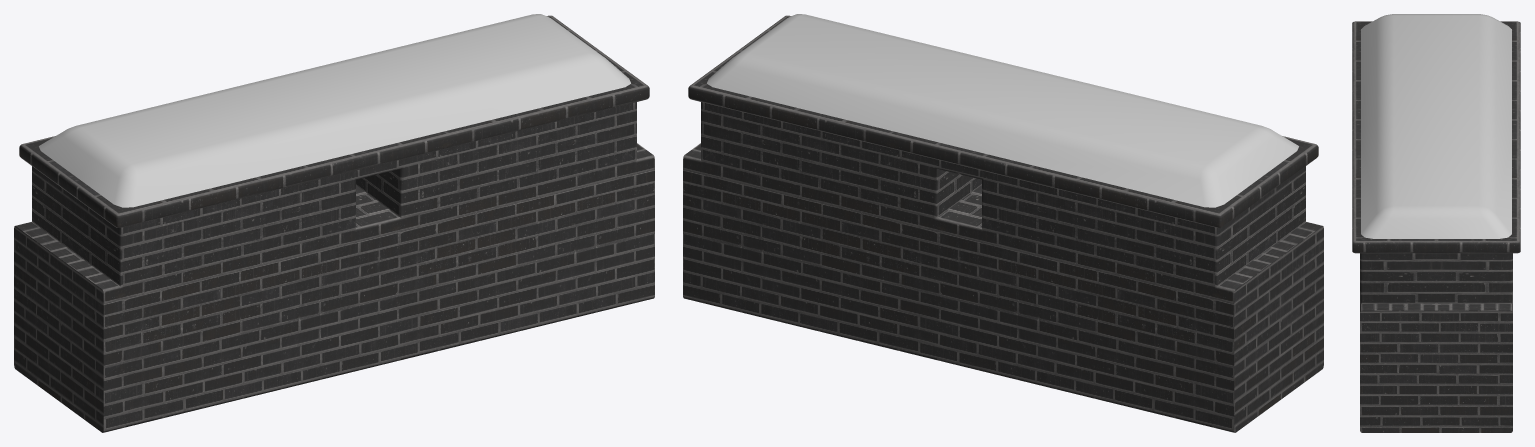
File: SM_GH_Parapet_001.fbx
3 views of the same model, side by side, from view 1: azimuth 30°, elevation 25°; view 2: azimuth 150°, elevation 25°; view 3: azimuth 270°, elevation 25° (orthographic). The views are drawn at different scales.
Parts seen in each view (by area): view 1: SM_GH_Parapet_001; view 2: SM_GH_Parapet_001; view 3: SM_GH_Parapet_001.
Boxes of the visible parts, x1=… form: SM_GH_Parapet_001: x1=14, y1=14, x2=654, y2=432; SM_GH_Parapet_001: x1=683, y1=14, x2=1323, y2=432; SM_GH_Parapet_001: x1=1352, y1=14, x2=1520, y2=432.
Bounding box in the file's own units: 379 × 118 × 160.
